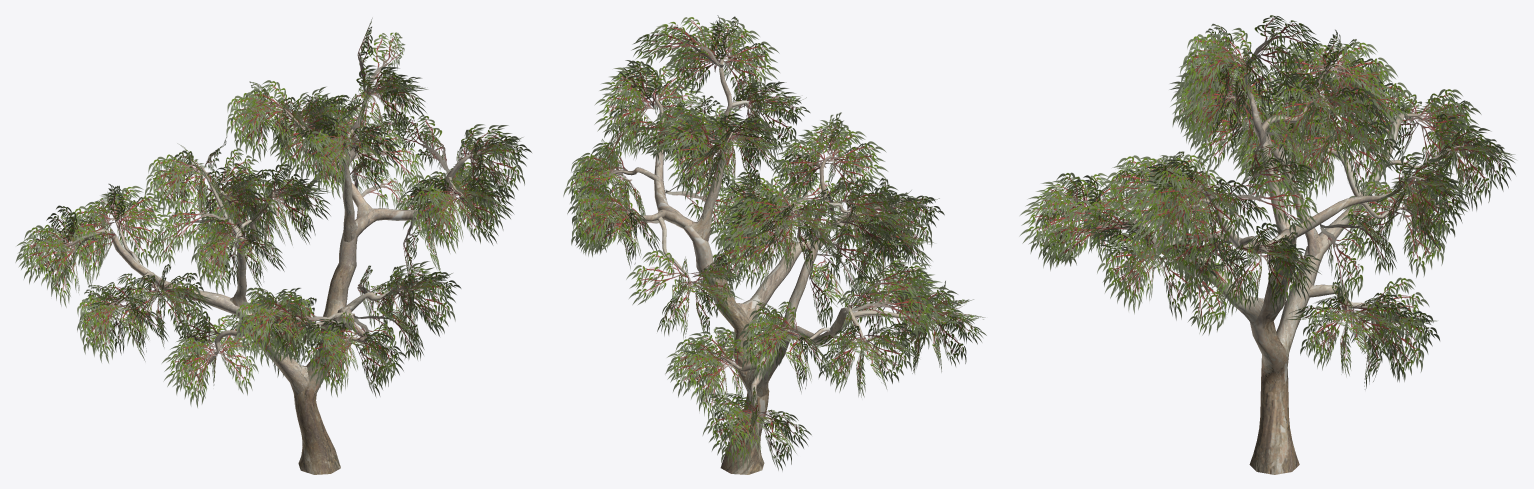
File: ghost_gum.glb
3 renders of one model, left to right at view 1: azimuth 30°, elevation 25°; view 2: azimuth 150°, elevation 25°; view 3: azimuth 270°, elevation 25°, orthographic. The views are drawn at different scales.
Parts seen in each view (by area): view 1: polySurface52; view 2: polySurface52; view 3: polySurface52.
Boxes of the visible parts, box(x1,y1,x2,y2) form: polySurface52: box(15, 18, 531, 474); polySurface52: box(563, 15, 986, 474); polySurface52: box(1019, 15, 1515, 474).
Size of the model in its own units: 3.05 by 3.02 by 2.86.
Materials: 2 (2 with a texture image).
